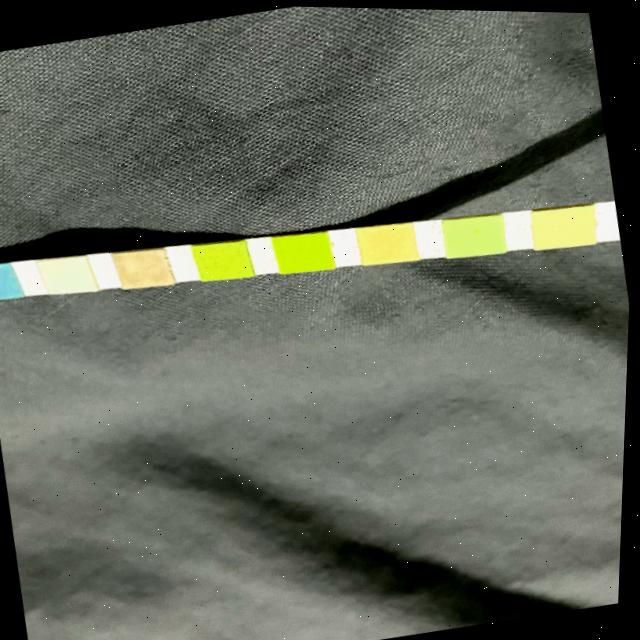Bilirubin: (44, 253, 94, 295)
Blood: (277, 228, 336, 273)
Glucose: (0, 261, 19, 300)
Ketone: (119, 247, 173, 288)
Protein: (444, 210, 509, 257)
SpGravity: (197, 238, 254, 281)
Urobilinogen: (532, 200, 600, 248)
pH: (359, 217, 419, 263)
